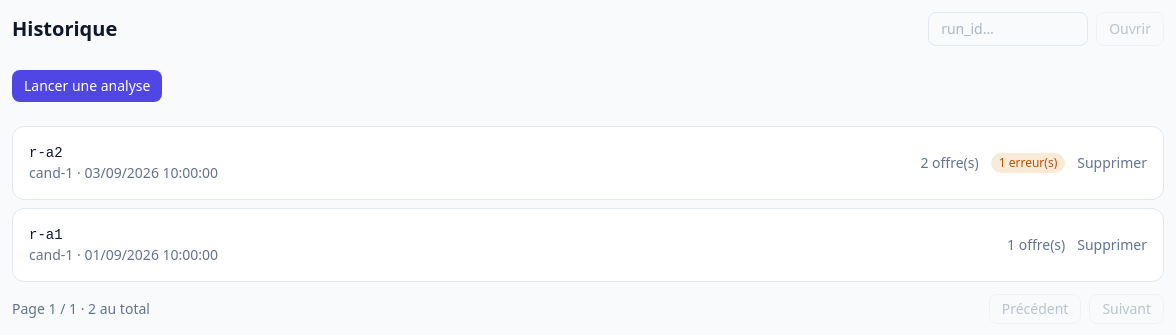
Test case: RunsListPage › affiche l'erreur si la suppression échoue et conserve la ligne
Check: the text "r-a2" is shown, box [29, 145, 63, 161]
Click the button with aria-label "Supprimer le run r-a2" at (1112, 163), box [1077, 153, 1147, 173]
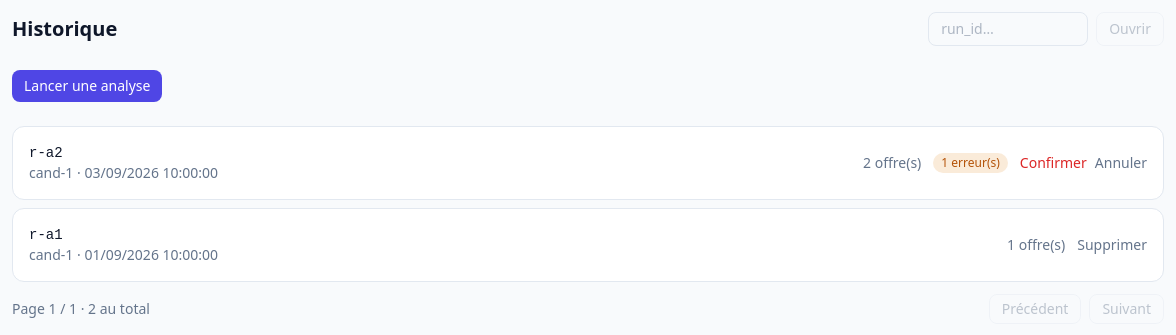
Click the button "Confirmer" at (1053, 163), box [1020, 153, 1087, 173]
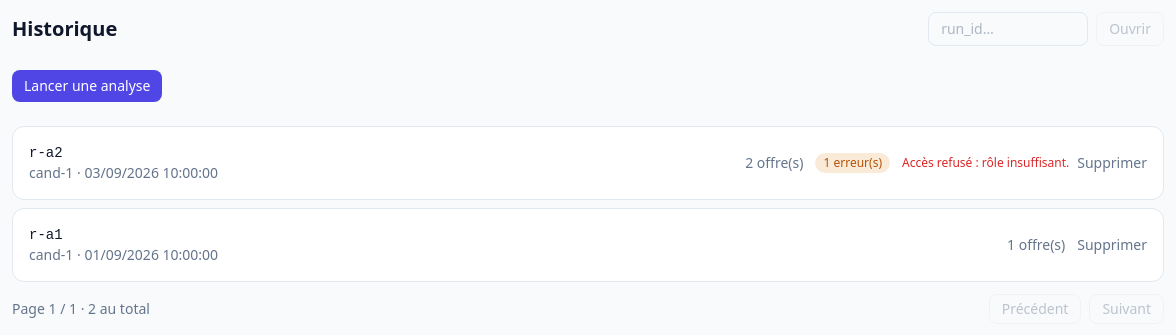
Check: the text "r-a2" is shown, box [29, 145, 63, 161]
Check: the message shows "Accès refusé", box [902, 154, 1069, 171]
Check: the button with aria-label "Supprimer le run r-a2" is shown, box [1077, 153, 1147, 173]
